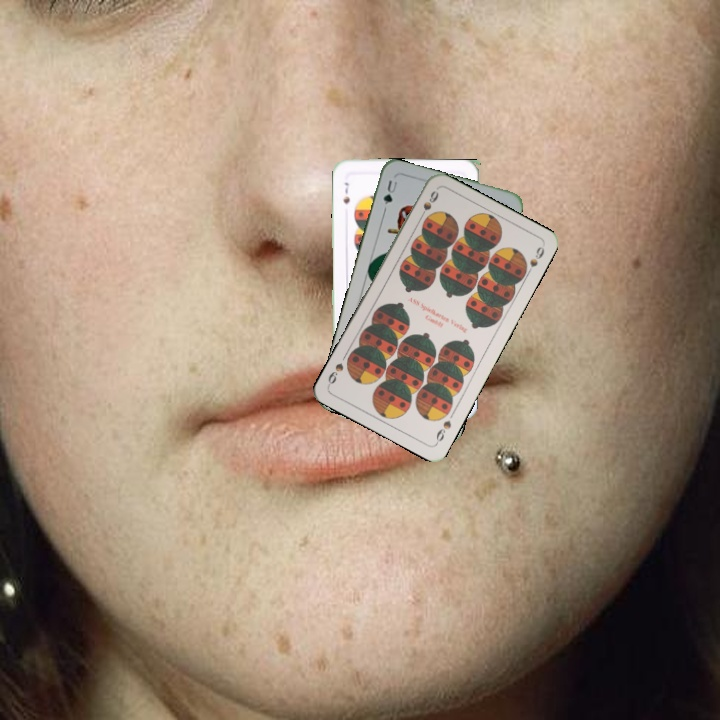GU: (379, 176, 400, 207)
S7: (339, 179, 353, 206)
S9: (415, 186, 441, 223), (432, 416, 454, 447)
